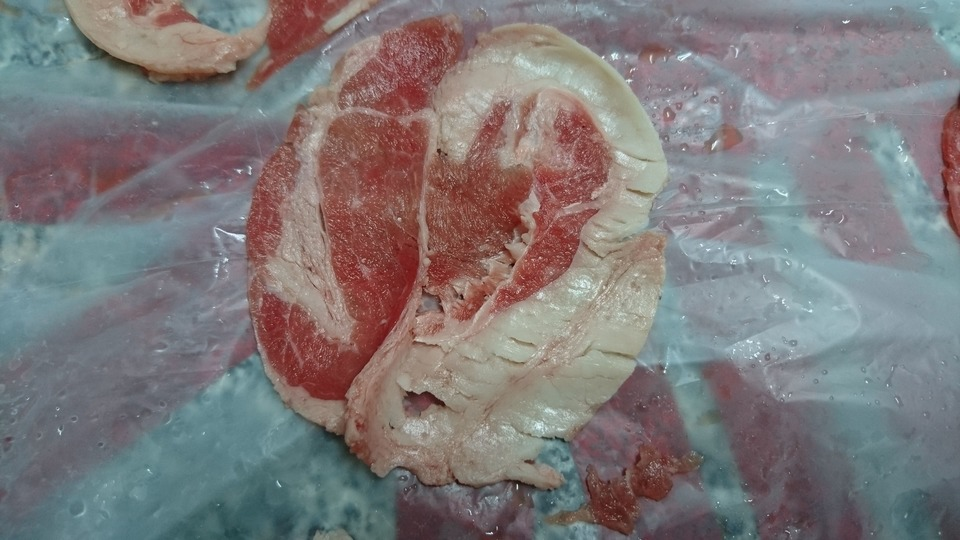restructured meat: (246, 21, 663, 490)
